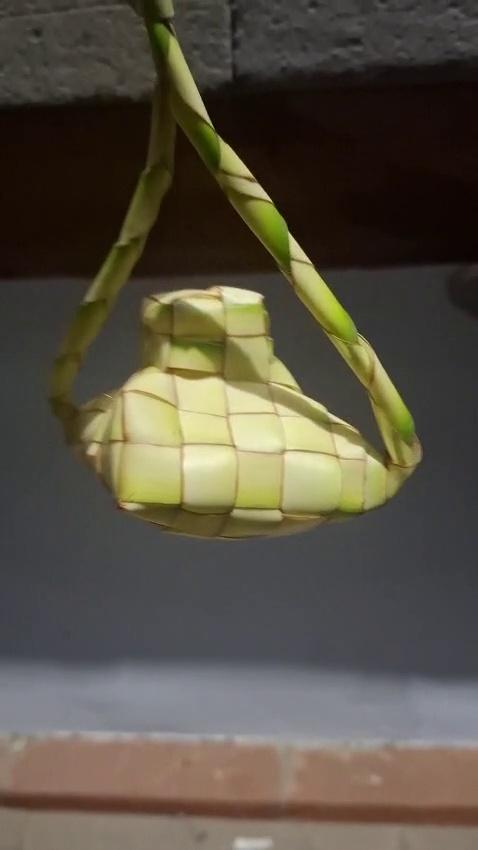Tipat Gong: (41, 3, 428, 543)
